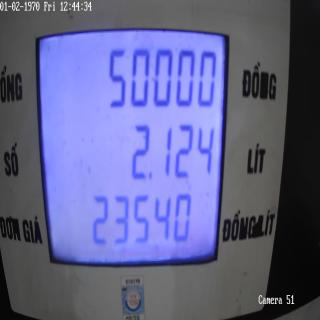screen: (32, 12, 234, 277)
